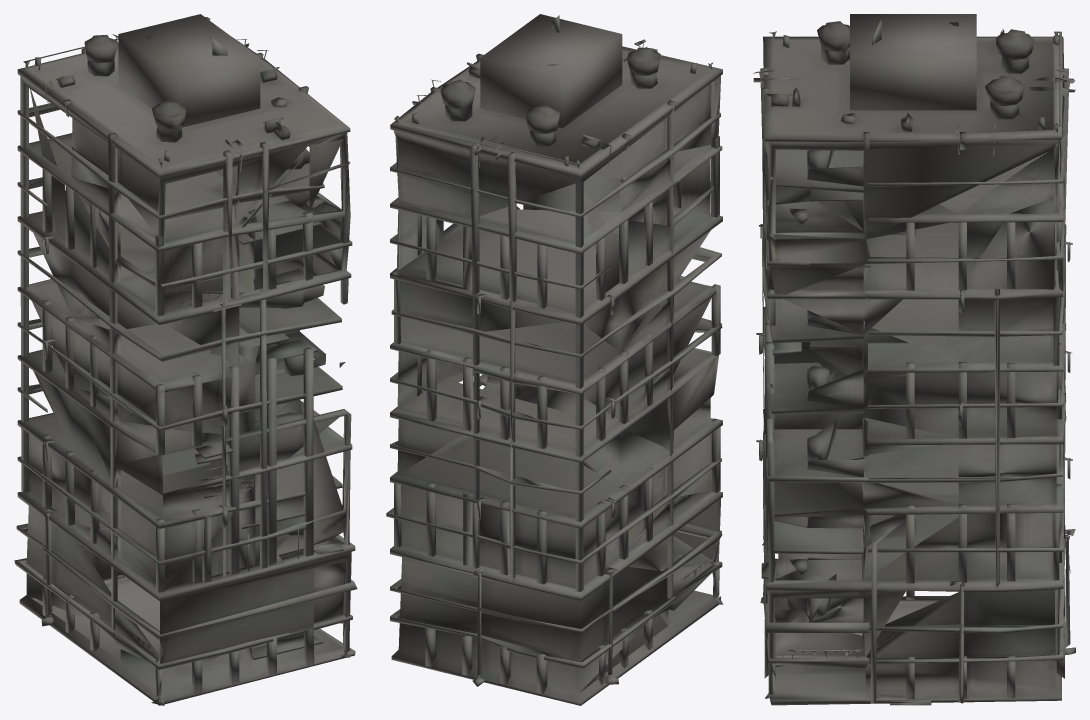
Rendered from damaged_highrise_building.glb.
The picture shows the model from 3 angles, left to right: view 1: azimuth 30°, elevation 25°; view 2: azimuth 150°, elevation 25°; view 3: azimuth 270°, elevation 25°; orthographic projection. The views are drawn at different scales.
Parts seen in each view (by area): view 1: tripo_node_0bd7f381-e5d9-44b9-b7f2-ca44feb5f8e7; view 2: tripo_node_0bd7f381-e5d9-44b9-b7f2-ca44feb5f8e7; view 3: tripo_node_0bd7f381-e5d9-44b9-b7f2-ca44feb5f8e7.
Part boxes in pixels (x1,y1,x2,y2): tripo_node_0bd7f381-e5d9-44b9-b7f2-ca44feb5f8e7: (14,14,357,705); tripo_node_0bd7f381-e5d9-44b9-b7f2-ca44feb5f8e7: (386,14,723,705); tripo_node_0bd7f381-e5d9-44b9-b7f2-ca44feb5f8e7: (753,14,1075,705).
Bounding box in the file's own units: 0.3691 × 0.998 × 0.459.
1 material, 1 textured.
